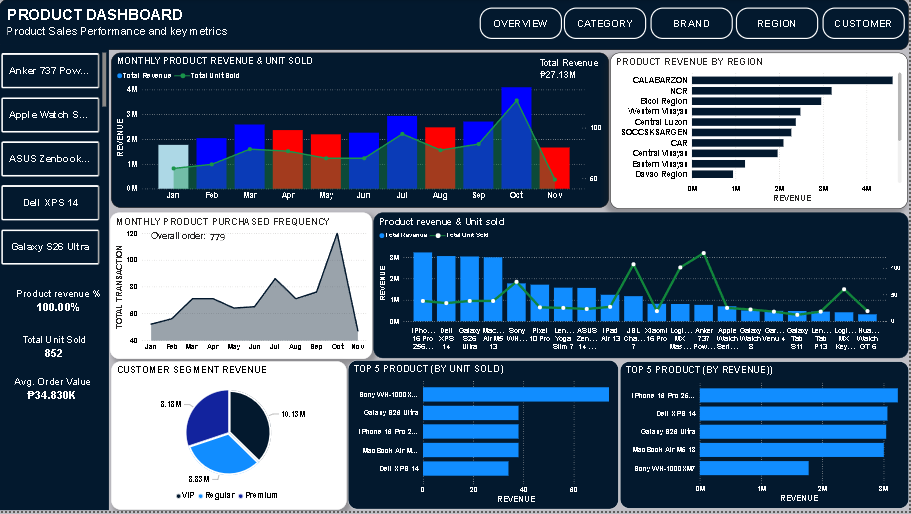

This screenshot's page, from the dashboard's own definition file:
{"tool":"powerbi","page":{"name":"PRODUCT NAME","canvas":[1920,1080],"ordinal":3},"visuals":[{"type":"group","id":"g1","title":"Group 1","box":[0,0,1920,107],"z":0},{"type":"shape","box":[0,0,1920,107],"z":0,"group":"g1"},{"type":"actionButton","box":[1374.2,19.1,174.1,66.8],"z":1000,"group":"g1"},{"type":"shape","box":[0,94.9,232.2,983.4],"z":1000},{"type":"actionButton","box":[1555.5,19.1,174.1,66.8],"z":2000,"group":"g1"},{"type":"advancedSlicerVisual","fields":{"Values":["public product.product_name"]},"box":[0,107.4,231.4,470],"z":2000},{"type":"actionButton","box":[1736.9,19.1,174.1,66.8],"z":3000,"group":"g1"},{"type":"cardVisual","fields":{"Data":["public customer.Product revenue %"]},"box":[0,589.7,252.4,96.9],"z":3000},{"type":"actionButton","box":[1192.9,19.1,174.1,66.8],"z":4000,"group":"g1"},{"type":"cardVisual","fields":{"Data":["public order_items.Total Quantity"]},"box":[6.1,684.6,222.1,101],"z":4000},{"type":"textbox","box":[11.9,9.5,536.8,97.5],"z":5000,"group":"g1"},{"type":"group","id":"g2","title":"Group 2","box":[236.3,103,1064.2,337.2],"z":5000},{"type":"actionButton","box":[1014,19.1,174.1,66.8],"z":6000,"group":"g1"},{"type":"lineChart","title":"MONTHLY PRODUCT PURCHASED FREQUENCY","fields":{"Category":["public order_receipts.Month Name"],"Y":["public customer.Total Completed Transaction"]},"box":[234.3,450.3,553,309],"z":6000},{"type":"pieChart","title":"CUSTOMER SEGMENT REVENUE","fields":{"Category":["public customer.customer_segment"],"Y":["public order_items.Total Revenue"]},"box":[236.3,765.4,496.8,313],"z":7000},{"type":"lineClusteredColumnComboChart","title":"MONTHLY PRODUCT REVENUE & UNIT SOLD","fields":{"Category":["public order_receipts.Month Name"],"Y":["public order_items.Total Revenue"],"Y2":["public order_items.Total Unit Sold"]},"box":[236.3,113.1,1050.1,327.1],"z":8000,"group":"g2"},{"type":"clusteredBarChart","title":"PRODUCT REVENUE BY REGION","fields":{"Category":["public customer.region"],"Y":["public order_items.Total Revenue"]},"box":[1290.7,114.5,627.5,329.2],"z":8000},{"type":"clusteredBarChart","title":"TOP 5 PRODUCT (BY REVENUE))","fields":{"Category":["public product.product_name"],"Y":["public order_items.Total Revenue"]},"box":[1310.1,765.4,609.9,311],"z":9000},{"type":"clusteredBarChart","title":"TOP 5 PRODUCT (BY UNIT SOLD)","fields":{"Category":["public product.product_name"],"Y":["public order_items.Total Unit Sold"]},"box":[737.1,763.3,571.5,315],"z":10000},{"type":"lineClusteredColumnComboChart","title":"Product revenue & Unit sold","fields":{"Category":["public product.product_name"],"Y":["public order_items.Total Revenue"],"Y2":["public order_items.Total Unit Sold"]},"box":[791.5,450.9,1128.5,307.8],"z":11000},{"type":"cardVisual","fields":{"Data":["public customer.Avg. Order Value"]},"box":[0,777.5,226.2,92.9],"z":12000},{"type":"cardVisual","title":"Overall order","fields":{"Data":["public customer.Purchased count"]},"box":[416,476.6,92.9,50.5],"z":13000},{"type":"textbox","box":[317,482.6,125.2,42.4],"z":14000},{"type":"cardVisual","fields":{"Data":["public order_items.Total Revenue"]},"box":[1112.7,103,187.8,92.9],"z":15001,"group":"g2"}]}

Visuals, with their boxes in screenshot pixels (x1, y1, x2, y2), scaled from the page's 1920x1080 canvas onto the 911x514 screenshot:
"Group 1" group: detection(0, 0, 910, 51)
shape: detection(0, 0, 910, 51)
actionButton: detection(652, 9, 735, 41)
shape: detection(0, 45, 110, 513)
actionButton: detection(738, 9, 821, 41)
advancedSlicerVisual - public product.product_name: detection(0, 51, 110, 275)
actionButton: detection(824, 9, 907, 41)
cardVisual - public customer.Product revenue %: detection(0, 281, 120, 327)
actionButton: detection(566, 9, 649, 41)
cardVisual - public order_items.Total Quantity: detection(3, 326, 108, 374)
textbox: detection(6, 5, 260, 51)
"Group 2" group: detection(112, 49, 617, 210)
actionButton: detection(481, 9, 564, 41)
"MONTHLY PRODUCT PURCHASED FREQUENCY" lineChart: detection(111, 214, 374, 361)
"CUSTOMER SEGMENT REVENUE" pieChart: detection(112, 364, 348, 513)
"MONTHLY PRODUCT REVENUE & UNIT SOLD" lineClusteredColumnComboChart: detection(112, 54, 610, 210)
"PRODUCT REVENUE BY REGION" clusteredBarChart: detection(612, 54, 910, 211)
"TOP 5 PRODUCT (BY REVENUE))" clusteredBarChart: detection(622, 364, 910, 512)
"TOP 5 PRODUCT (BY UNIT SOLD)" clusteredBarChart: detection(350, 363, 621, 513)
"Product revenue & Unit sold" lineClusteredColumnComboChart: detection(376, 215, 910, 361)
cardVisual - public customer.Avg. Order Value: detection(0, 370, 107, 414)
"Overall order" cardVisual: detection(197, 227, 241, 251)
textbox: detection(150, 230, 210, 250)
cardVisual - public order_items.Total Revenue: detection(528, 49, 617, 93)
